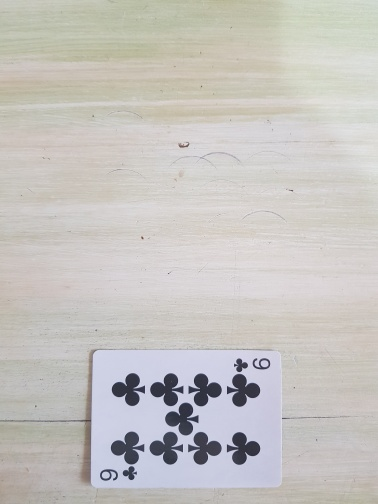nine: (89, 349, 284, 490)
